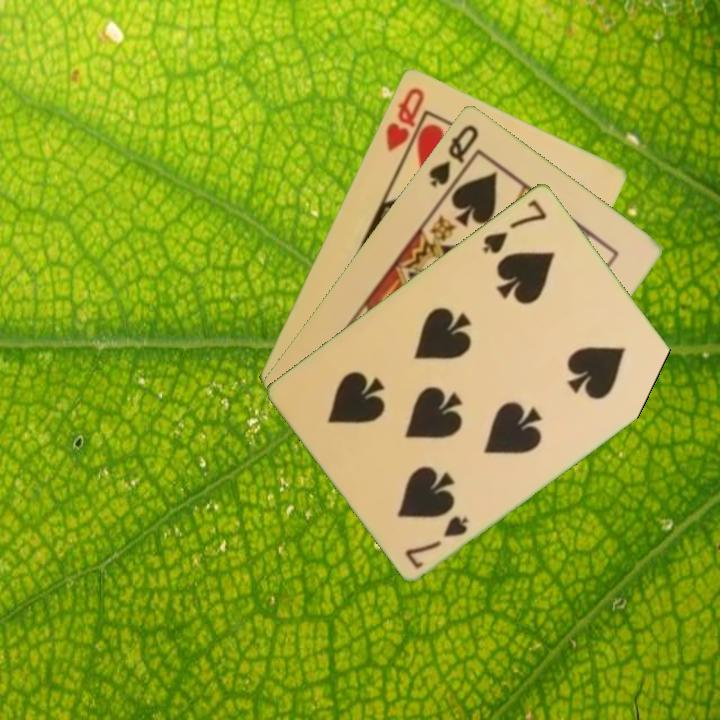7s: (479, 195, 550, 256), (401, 511, 471, 571)
Qh: (381, 83, 427, 154)
Qs: (425, 120, 482, 190)
